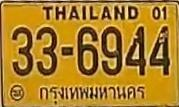3: (36, 26, 57, 75), (11, 26, 32, 75)
4: (149, 24, 169, 74), (125, 25, 145, 75)
6: (77, 26, 97, 75)
9: (101, 26, 121, 74)
BKK: (37, 83, 147, 105)
